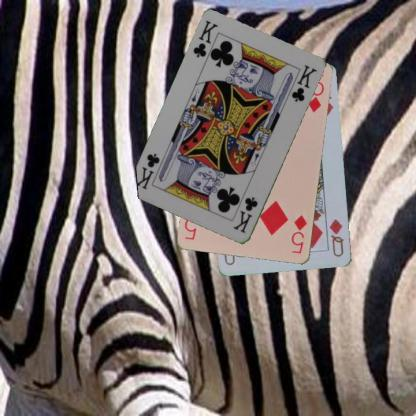5d: (289, 212, 308, 256)
Kc: (230, 194, 260, 235), (191, 18, 220, 59)
Qd: (327, 216, 346, 258)
